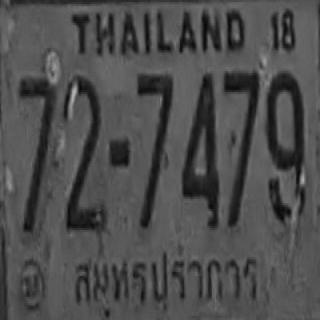N00: (265, 71, 305, 222)
N02: (65, 75, 103, 232), (63, 76, 102, 223)
N04: (181, 71, 218, 224)
N07: (135, 73, 173, 228), (18, 75, 55, 234), (222, 70, 259, 227), (222, 70, 259, 174)
N09: (265, 70, 306, 223)
P57: (70, 243, 264, 317)
